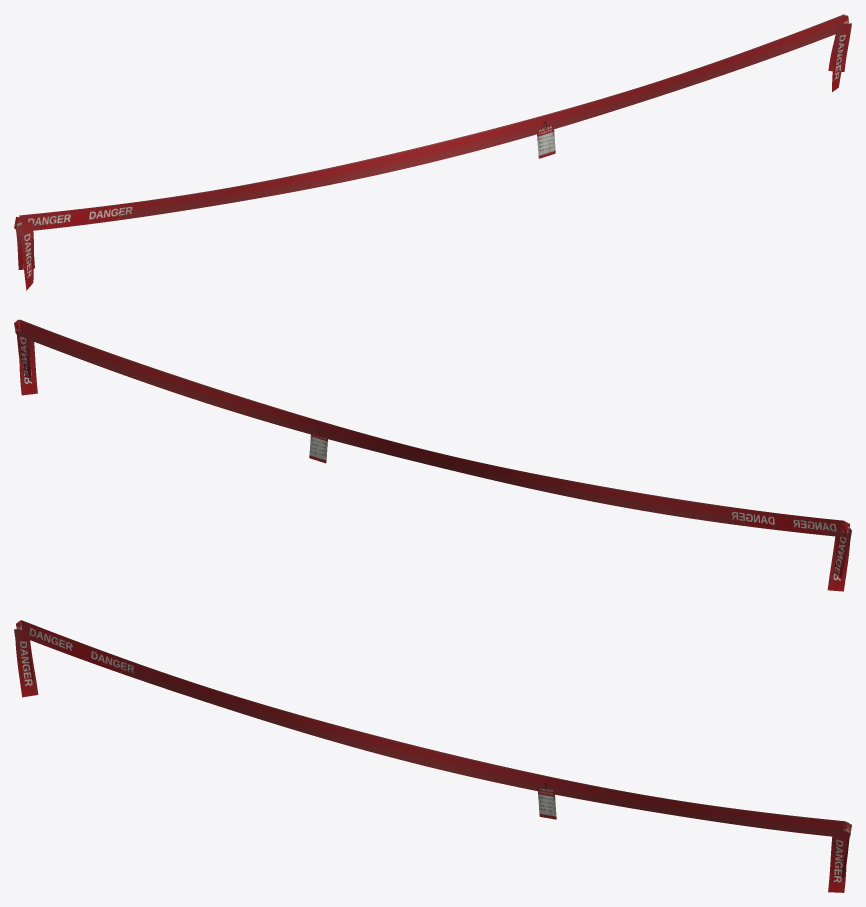
File: SM_Barricade_Ruban.glb
The picture shows the model from 3 angles, top to bottom: view 1: azimuth 30°, elevation 25°; view 2: azimuth 150°, elevation 25°; view 3: azimuth 330°, elevation 25°; orthographic projection.
Parts seen in each view (by area): view 1: SM_Barricade_Ruban; view 2: SM_Barricade_Ruban; view 3: SM_Barricade_Ruban.
Part boxes in pixels (left/top/right/bottom): SM_Barricade_Ruban: left=14, top=14, right=851, bottom=290; SM_Barricade_Ruban: left=14, top=319, right=851, bottom=591; SM_Barricade_Ruban: left=14, top=620, right=851, bottom=892.
Bounding box in the file's own units: 4.04 × 0.3421 × 0.0487.
Materials: 4 (2 with a texture image).
